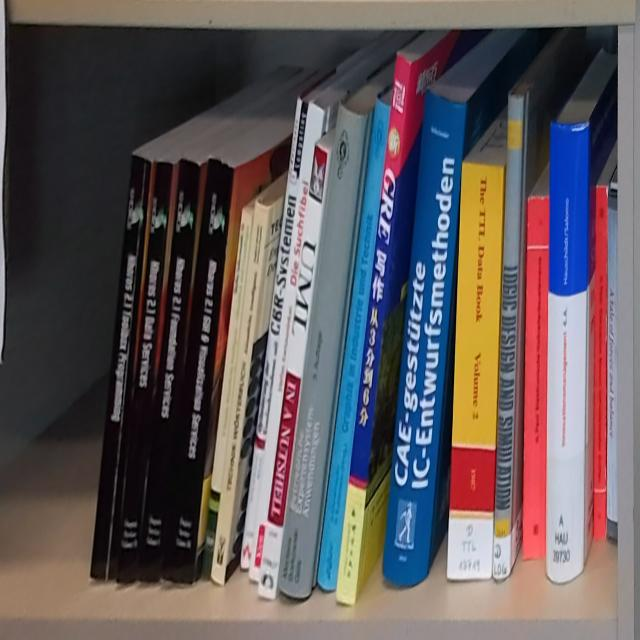Book Spine: (277, 102, 369, 600), (335, 54, 411, 608), (383, 89, 467, 586), (248, 100, 326, 585), (317, 96, 391, 593), (257, 144, 328, 603), (240, 96, 308, 571), (164, 157, 236, 585), (90, 154, 152, 584), (137, 160, 200, 583), (446, 161, 504, 581), (117, 161, 174, 583), (211, 202, 270, 588), (545, 121, 589, 584), (202, 210, 253, 581), (493, 94, 527, 583), (523, 196, 549, 562), (593, 186, 608, 538), (606, 189, 618, 543)
